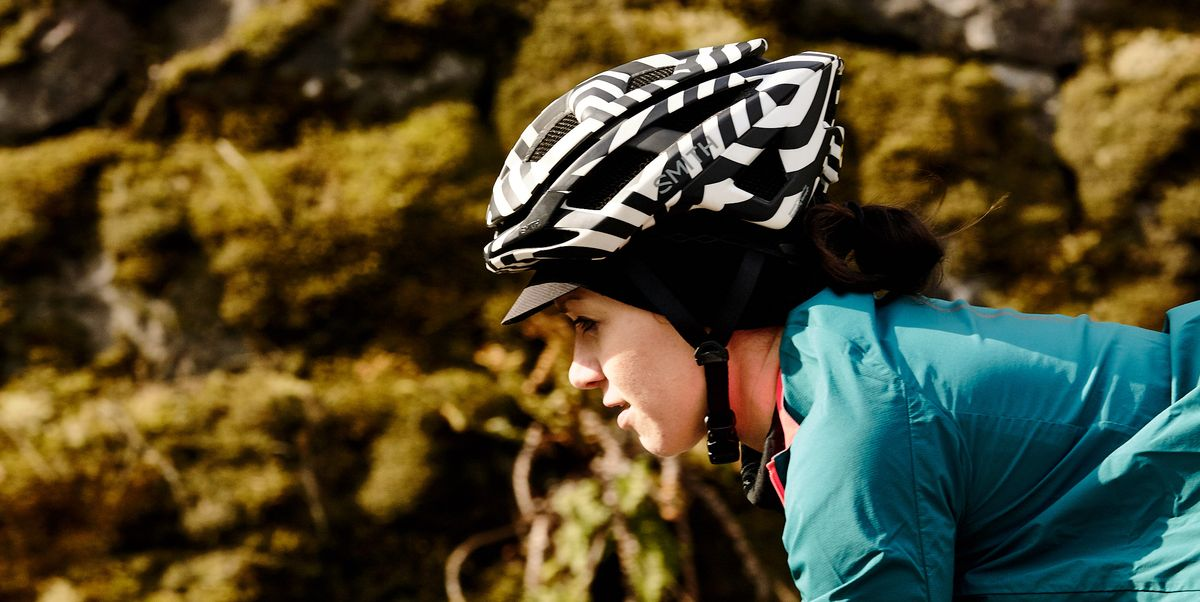helmet: (483, 37, 848, 458)
